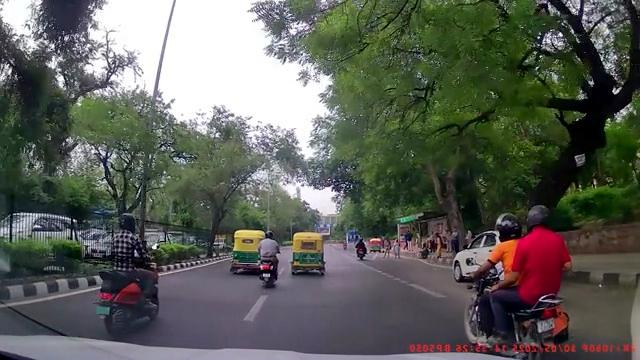motorcycle_with_helmet: (95, 213, 160, 336), (257, 230, 281, 288)
passenger_with_helmet: (468, 204, 574, 359)
